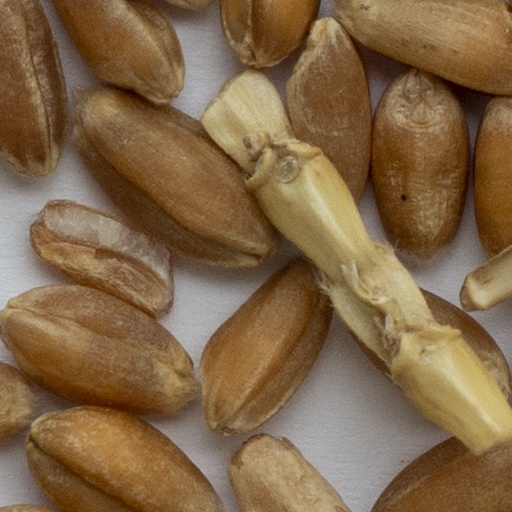Peel-poly: (197, 67, 511, 459), (456, 240, 511, 314)
Wheat-grain-damaged-poly: (29, 199, 174, 320)
Wheat-grain-poly: (195, 267, 329, 440), (228, 430, 357, 511)
